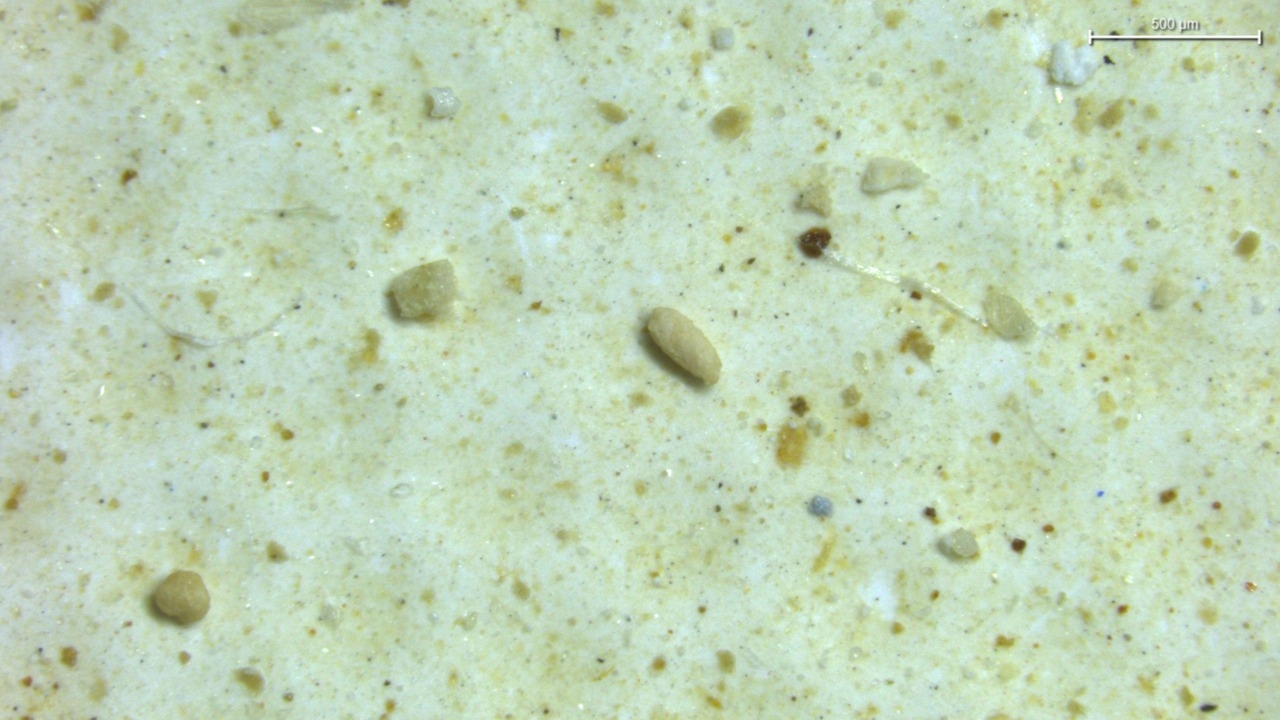microplastic_fragment: (646, 307, 722, 385), (386, 260, 457, 320), (152, 571, 209, 625), (982, 289, 1036, 339), (861, 157, 928, 194), (1049, 41, 1101, 85), (937, 528, 978, 559), (428, 87, 462, 118)
